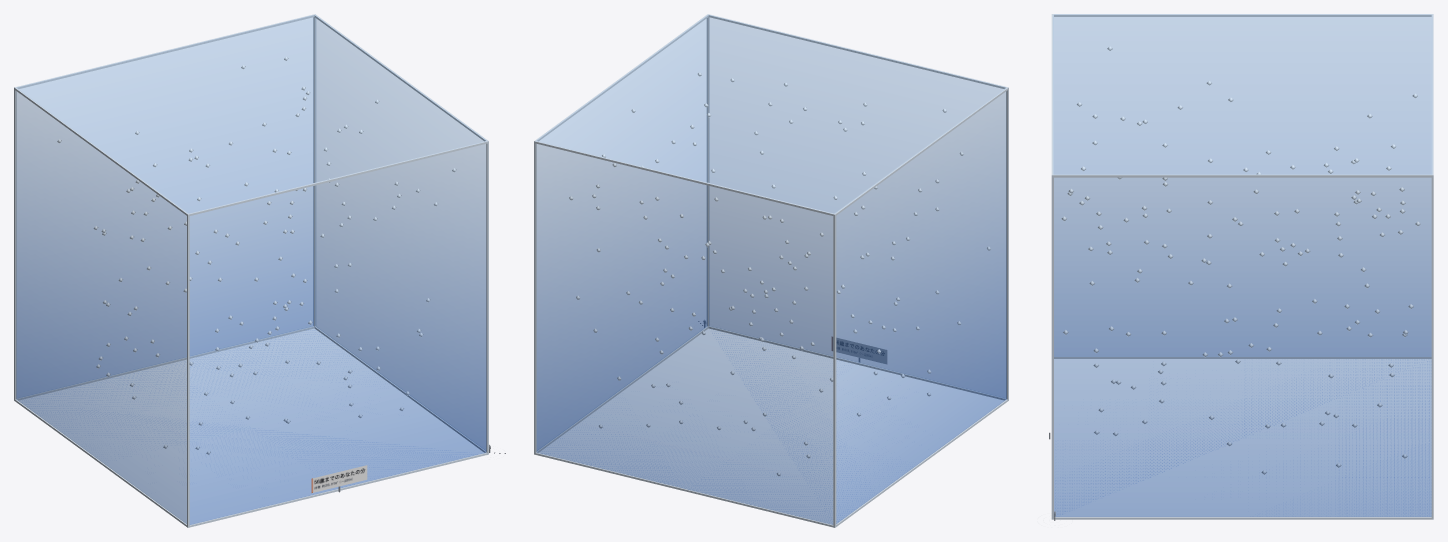
File: cube_life_56.glb
3 views of the same model, side by side, from view 1: azimuth 30°, elevation 25°; view 2: azimuth 150°, elevation 25°; view 3: azimuth 270°, elevation 25° (orthographic). The views are drawn at different scales.
Visible parts, largest first — view 1: co2, edge, dots, label; view 2: co2, edge, dots, label; view 3: co2, edge, dots.
Part boxes in pixels (left/top/right/bottom): co2: left=16, top=15, right=486, bottom=524; edge: left=14, top=14, right=488, bottom=527; dots: left=57, top=56, right=456, bottom=454; label: left=311, top=465, right=367, bottom=492; co2: left=536, top=15, right=1006, bottom=524; edge: left=534, top=14, right=1008, bottom=527; dots: left=569, top=72, right=990, bottom=476; label: left=832, top=337, right=886, bottom=363; co2: left=1053, top=14, right=1432, bottom=516; edge: left=1051, top=14, right=1433, bottom=519; dots: left=1061, top=46, right=1420, bottom=474.
Bounding box in the file's own units: 68.3 × 64.54 × 67.4.
Materials: 8 (3 with a texture image).
